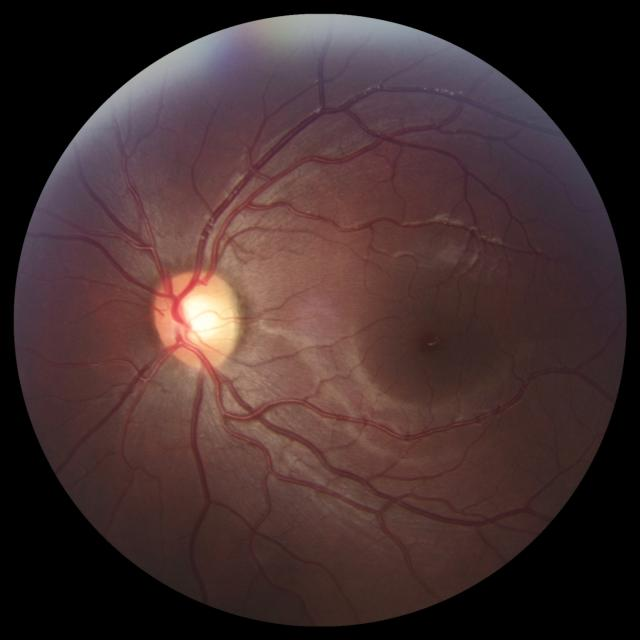OC: (176, 291, 224, 345)
OD: (153, 270, 239, 368)
